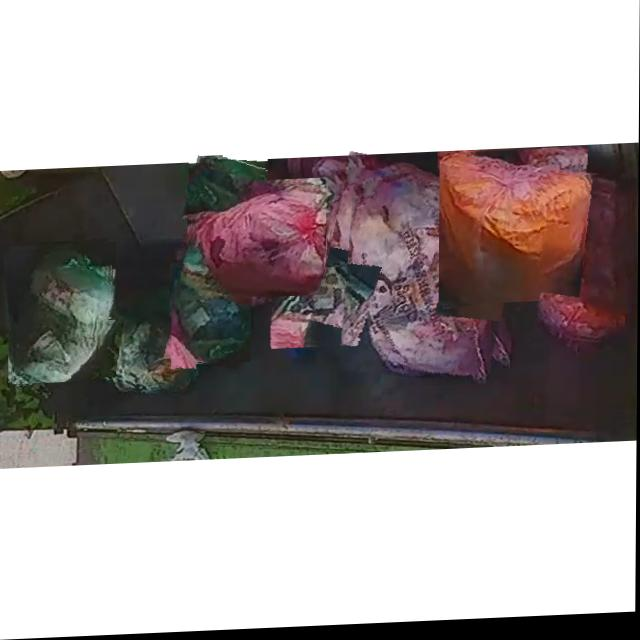general_trashbag: (14, 247, 112, 383), (97, 319, 196, 396), (272, 271, 370, 346), (173, 264, 245, 365), (202, 158, 268, 232)
other_trashbag: (348, 172, 492, 388), (440, 157, 581, 308), (540, 181, 631, 347), (191, 189, 326, 299)
